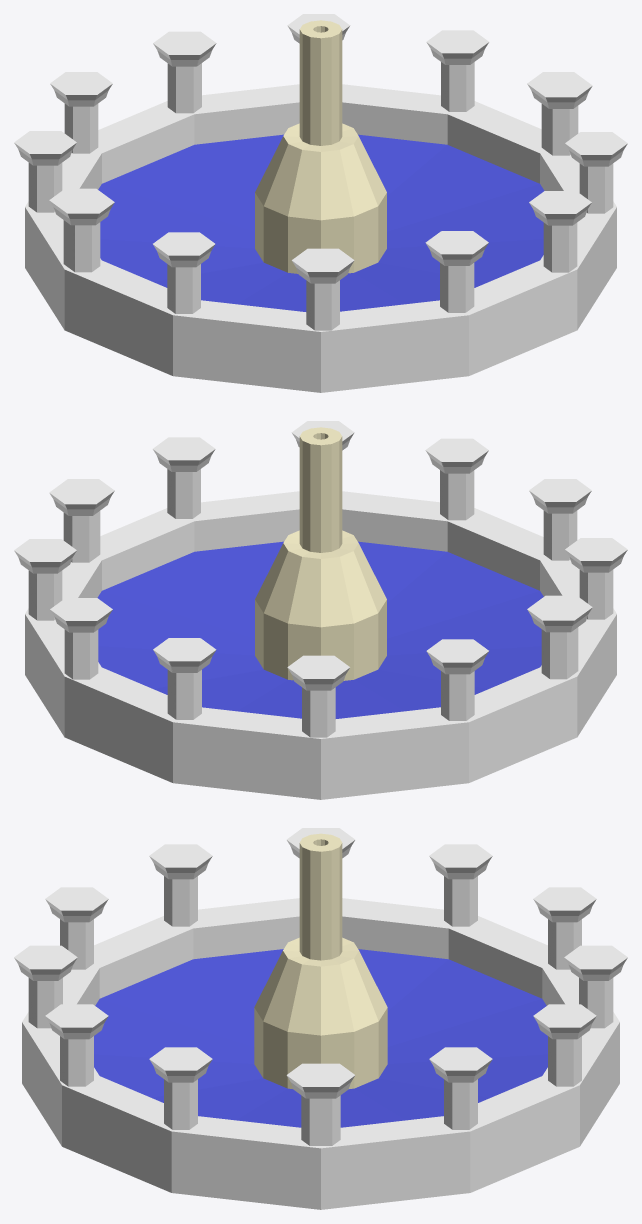
File: Fontanna.fbx
3 renders of one model, top to bottom at view 1: azimuth 30°, elevation 25°; view 2: azimuth 150°, elevation 25°; view 3: azimuth 270°, elevation 25°, orthographic.
Parts seen in each view (by area): view 1: Fontanna; view 2: Fontanna; view 3: Fontanna.
Part boxes in pixels (box(x1,y1,x2,y2)): Fontanna: box(14, 14, 627, 392); Fontanna: box(14, 421, 627, 799); Fontanna: box(14, 828, 627, 1209).
Bounding box in the file's own units: 192 × 83.44 × 193.
